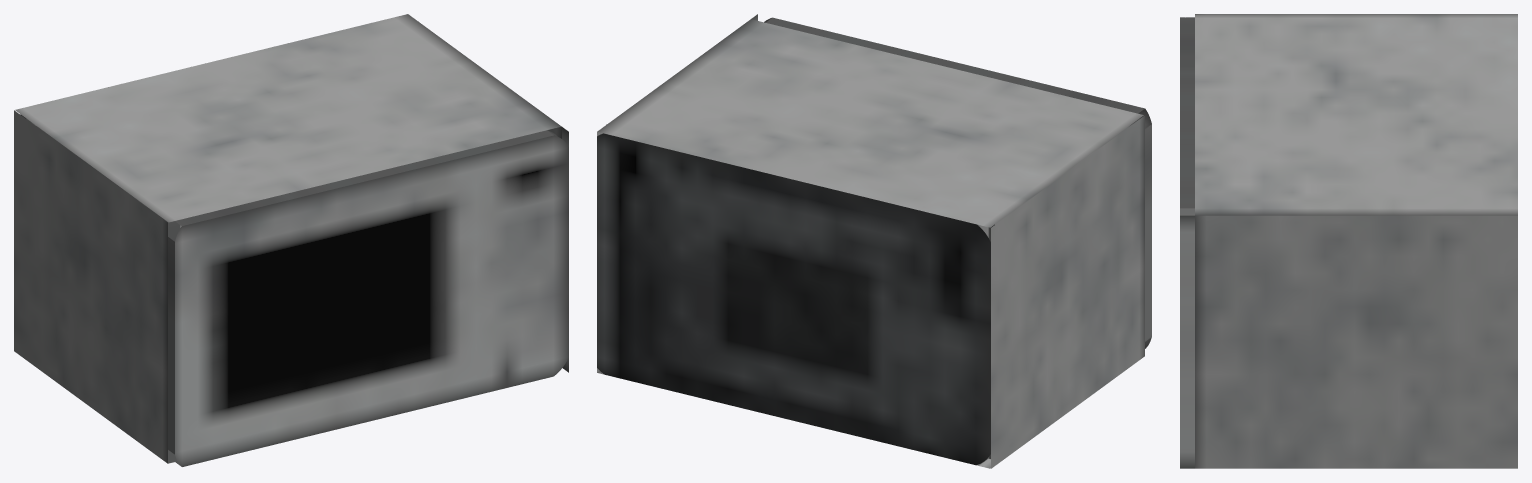
File: SM_EC_Microwave_Complete_0.fbx
3 renders of one model, left to right at view 1: azimuth 30°, elevation 25°; view 2: azimuth 150°, elevation 25°; view 3: azimuth 270°, elevation 25°, orthographic. The views are drawn at different scales.
Visible parts, largest first — view 1: SM_EC_Microwave_Complete_0, SM_EC_Microwave_Door_0; view 2: SM_EC_Microwave_Complete_0, SM_EC_Microwave_Door_0; view 3: SM_EC_Microwave_Complete_0, SM_EC_Microwave_Door_0.
Boxes of the visible parts, bbox=[...] form: SM_EC_Microwave_Complete_0: bbox=[14, 14, 568, 463]; SM_EC_Microwave_Door_0: bbox=[168, 145, 492, 466]; SM_EC_Microwave_Complete_0: bbox=[597, 14, 1144, 468]; SM_EC_Microwave_Door_0: bbox=[827, 32, 1151, 348]; SM_EC_Microwave_Complete_0: bbox=[1180, 14, 1517, 468]; SM_EC_Microwave_Door_0: bbox=[1180, 17, 1194, 215].
Bounding box in the file's own units: 0.802 × 0.5663 × 0.4679.
